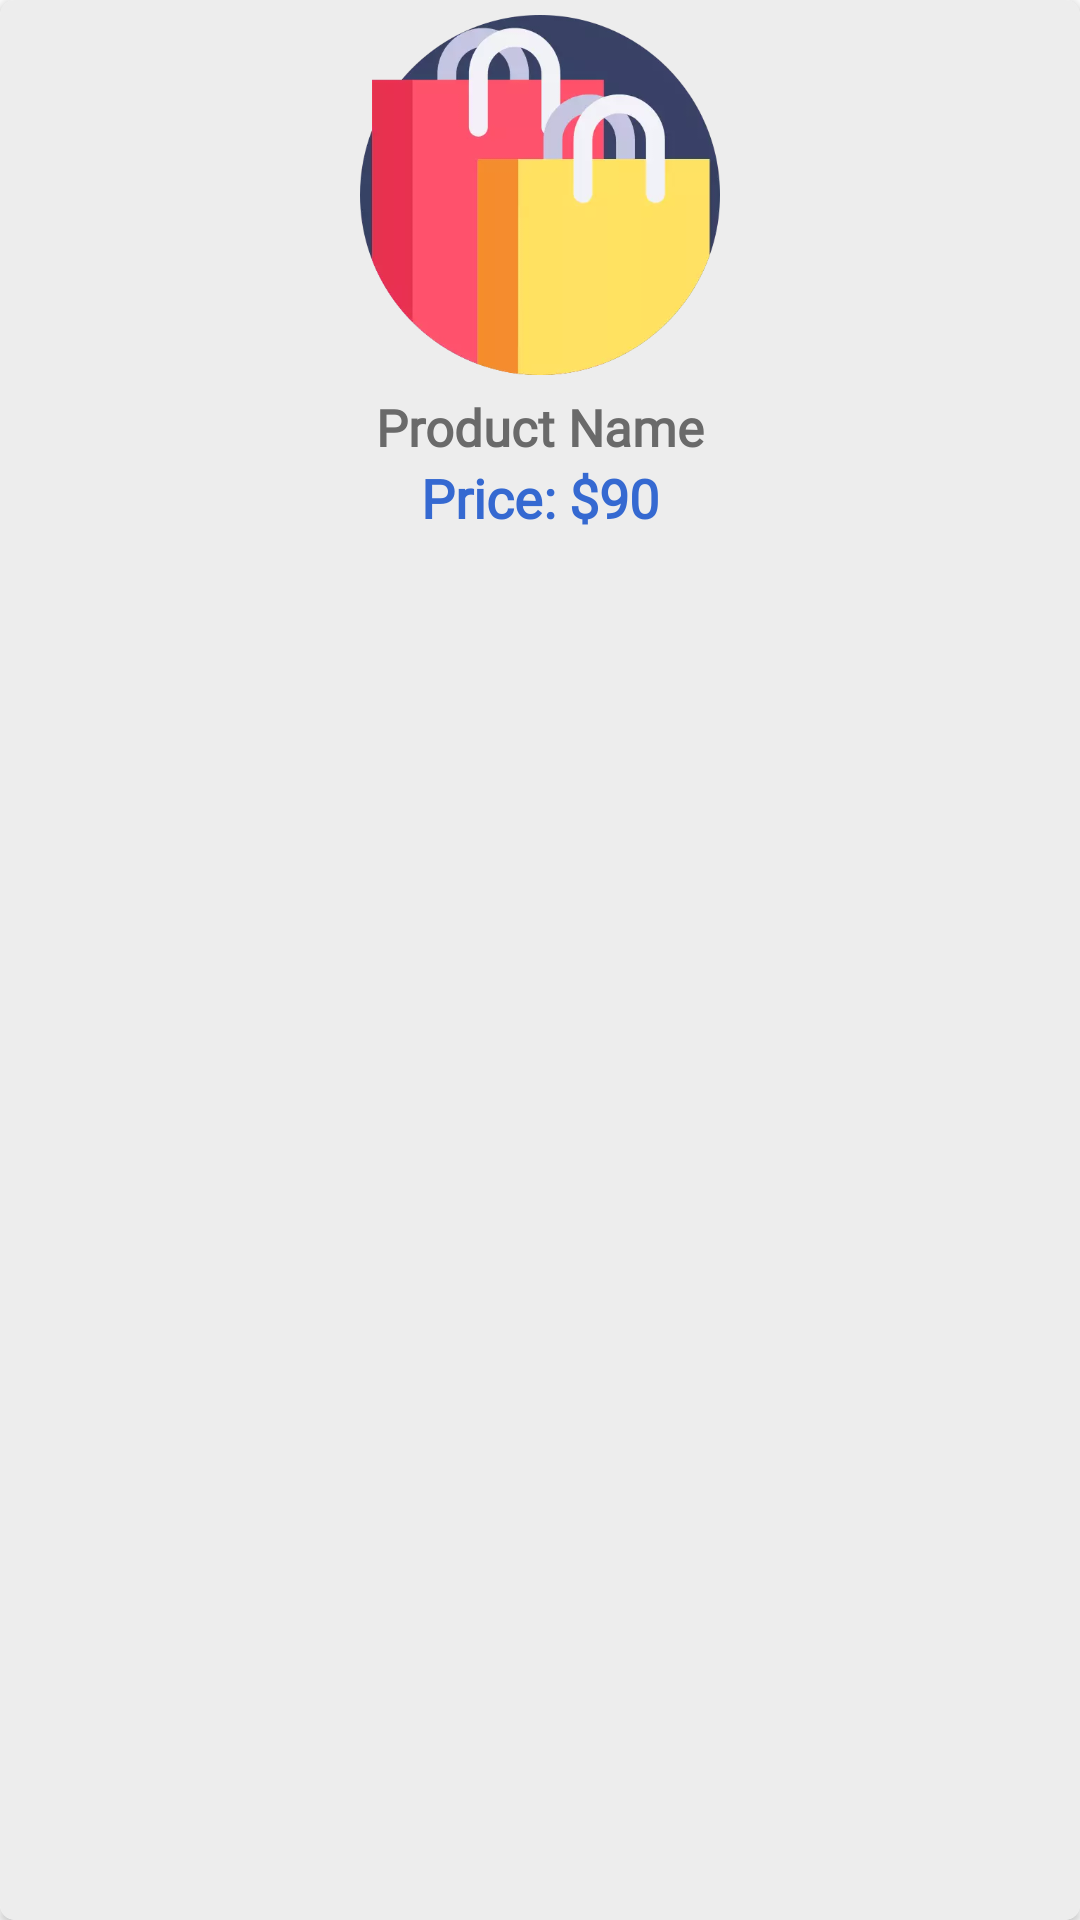

Icons on this 1080×1920 Android screen, each with the point to tap as (x,y):
bag: (540,195)
